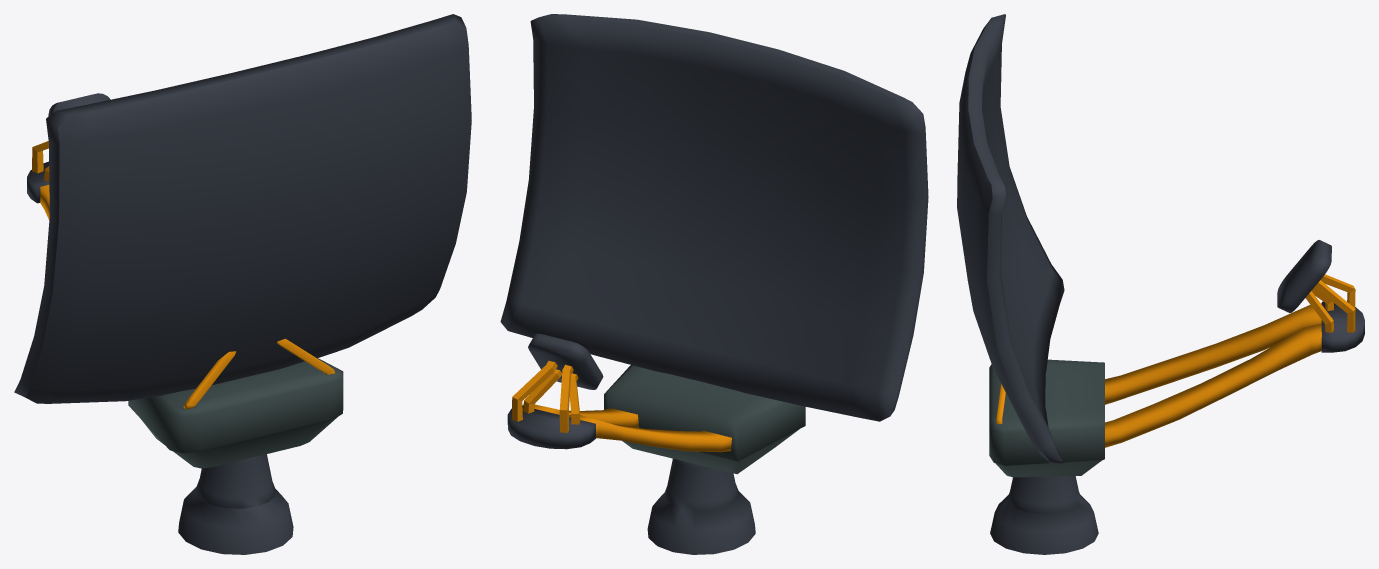
File: radar 2.1.fbx
3 renders of one model, left to right at view 1: azimuth 30°, elevation 25°; view 2: azimuth 150°, elevation 25°; view 3: azimuth 270°, elevation 25°, orthographic. The views are drawn at different scales.
Parts seen in each view (by area): view 1: radar.002; view 2: radar.002; view 3: radar.002.
Part boxes in pixels (x1,y1,x2,y2): radar.002: [14, 14, 471, 554]; radar.002: [500, 14, 928, 554]; radar.002: [957, 14, 1364, 554].
Size of the model in its own units: 110 by 125 by 105.
